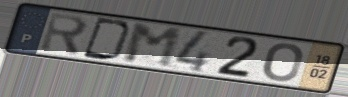2: (213, 35, 261, 80)
4: (173, 29, 212, 75)
D: (80, 16, 135, 63)
M: (121, 22, 184, 70)
O: (261, 42, 304, 83)
R: (37, 11, 91, 58)
